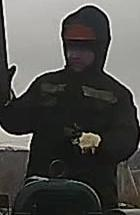helmet: (60, 17, 100, 43)
vest: (25, 68, 139, 197)
